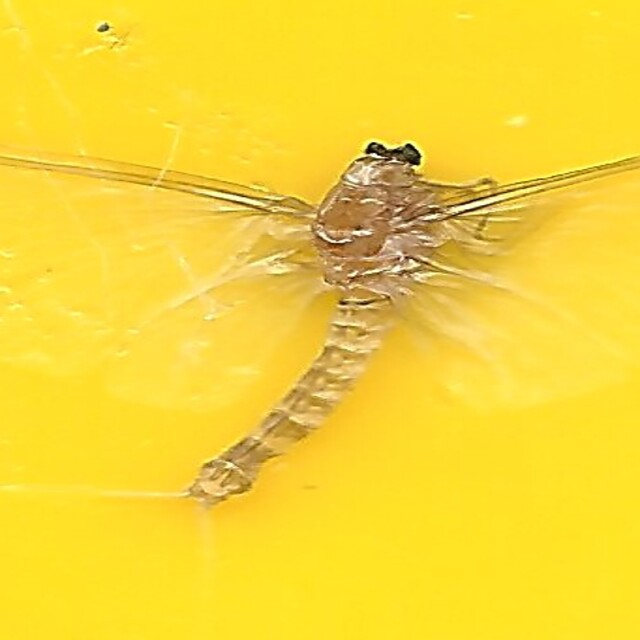Ephemeroptera: (188, 134, 452, 506)
